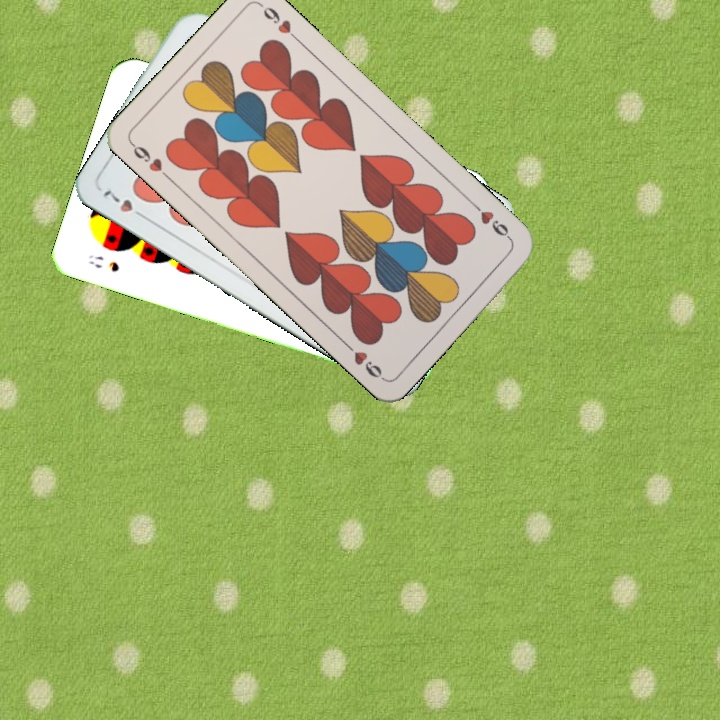H7: (99, 186, 150, 223)
H9: (467, 198, 515, 244), (126, 138, 174, 183)
S8: (84, 250, 122, 275)
